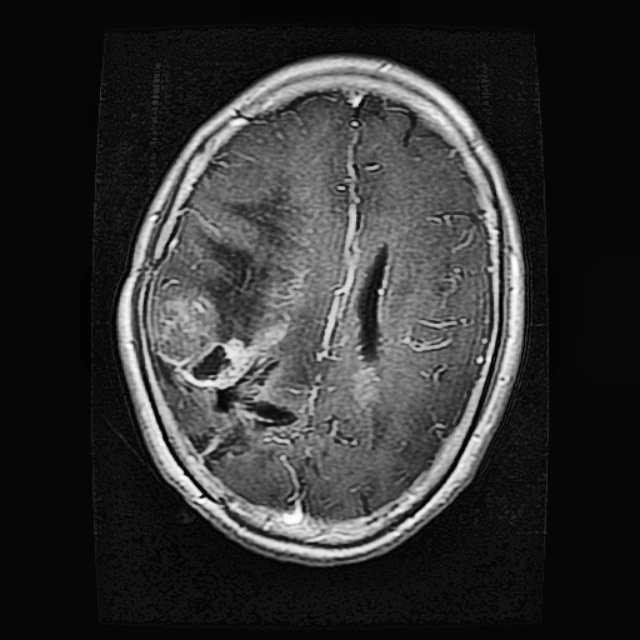Meningioma: (148, 278, 300, 427)
